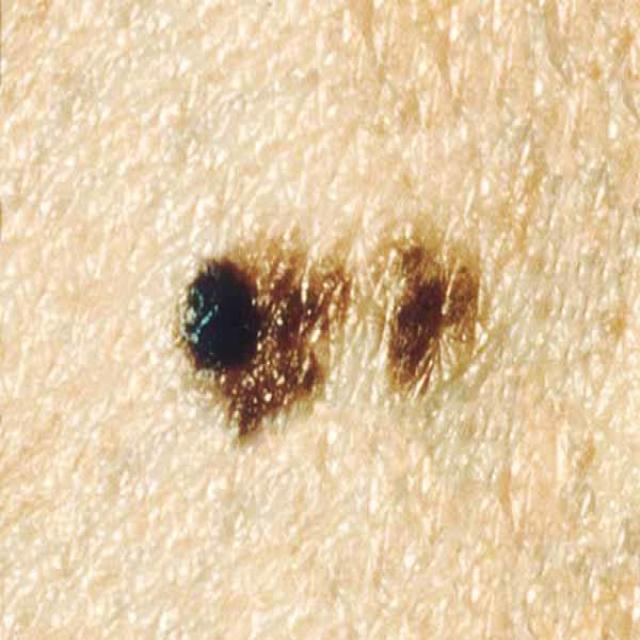Nao cancer: (182, 252, 252, 374)
